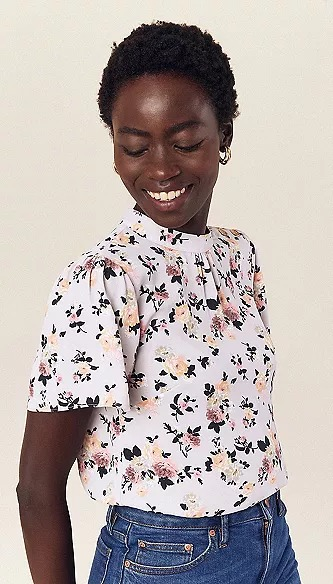C_short blouse: (29, 218, 295, 521)
